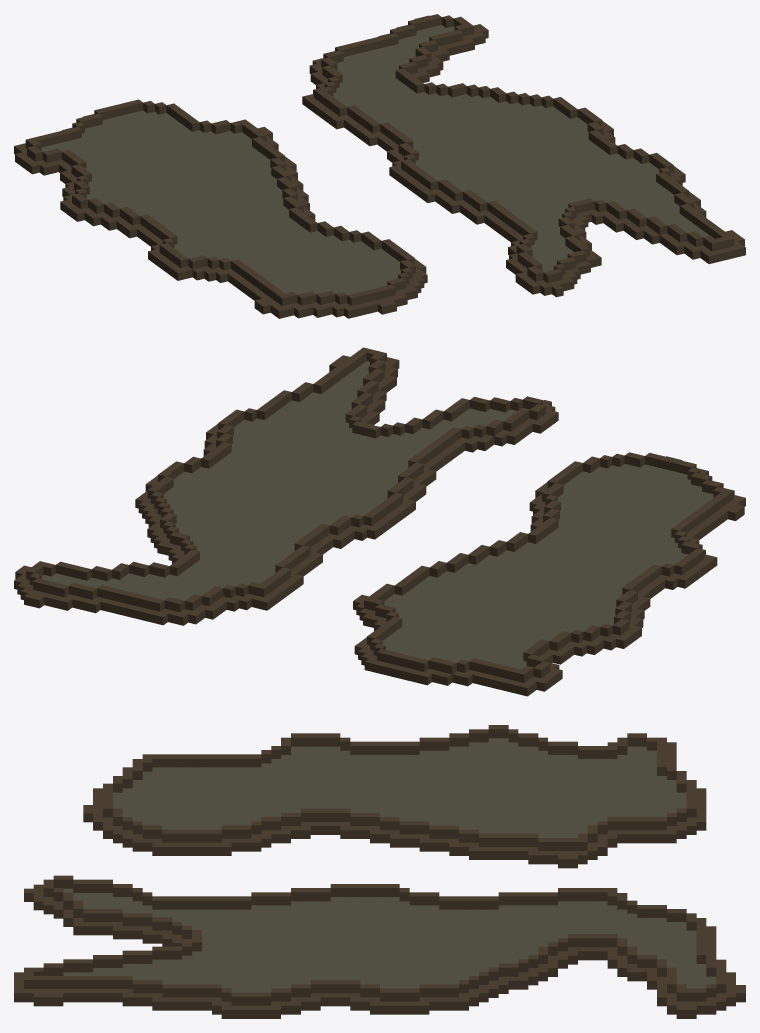
Rendered from ground_hole_4.glb.
3 views of the same model, one above another, from view 1: azimuth 30°, elevation 25°; view 2: azimuth 150°, elevation 25°; view 3: azimuth 270°, elevation 25° (orthographic). The views are drawn at different scales.
Parts seen in each view (by area): view 1: ground_hole_4; view 2: ground_hole_4; view 3: ground_hole_4.
Boxes of the visible parts, x1,y1,x2,y2 form: ground_hole_4: (14,14,745,318); ground_hole_4: (14,347,745,696); ground_hole_4: (14,725,745,1018).
Bounding box in the file's own units: 6.7 × 0.2 × 7.4.
Materials: 1 (1 with a texture image).
